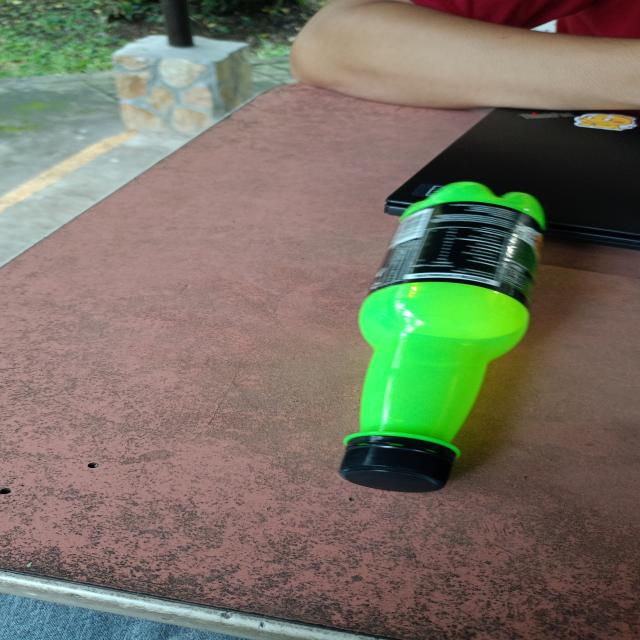Anorganik: (331, 172, 557, 504)
